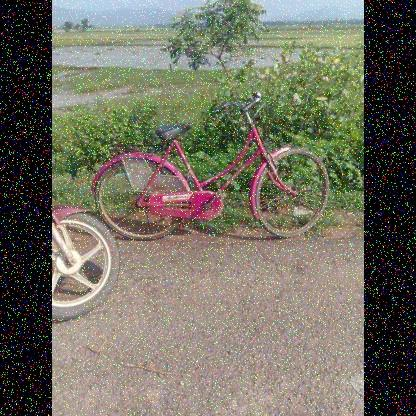Bicycle: (82, 81, 339, 257)
